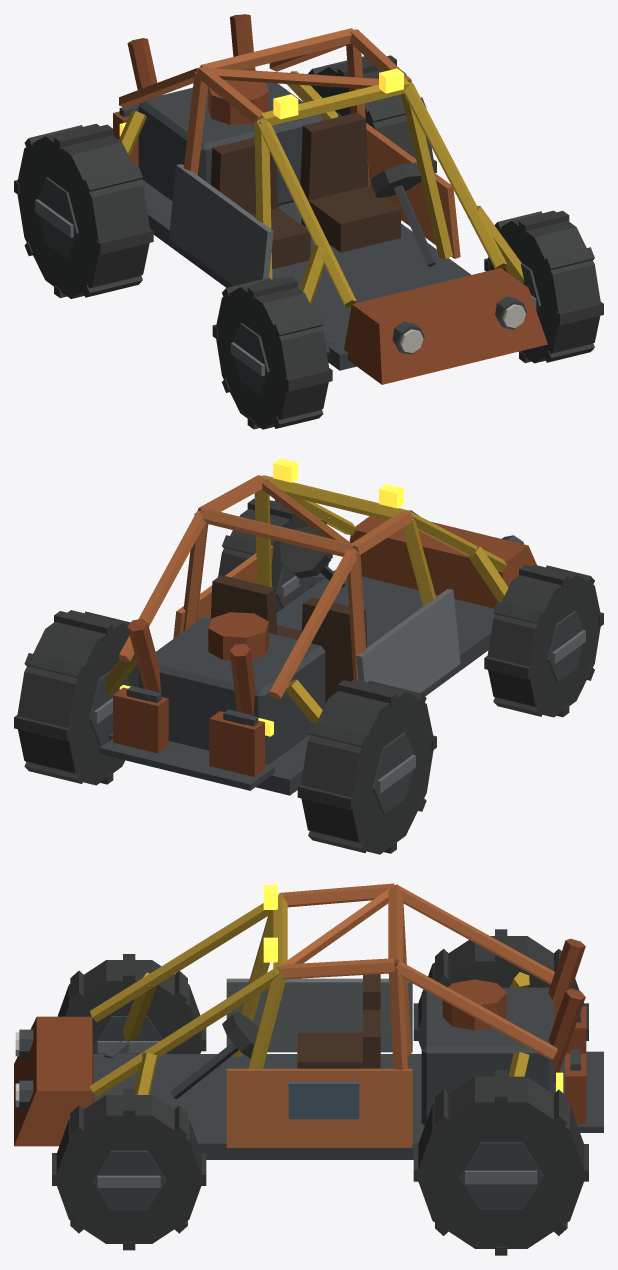
File: vehicle_buggy_l2.glb
The picture shows the model from 3 angles, top to bottom: view 1: azimuth 30°, elevation 25°; view 2: azimuth 150°, elevation 25°; view 3: azimuth 270°, elevation 25°; orthographic projection.
Parts seen in each view (by area): view 1: body, wheel_rr, wheel_fr, wheel_fl, wheel_rl; view 2: body, wheel_rr, wheel_rl, wheel_fr, wheel_fl; view 3: body, wheel_rl, wheel_fl, wheel_fr, wheel_rr.
Part boxes in pixels (x1=…): body: x1=113, y1=14, x2=547, y2=384; wheel_rr: x1=14, y1=123, x2=153, y2=298; wheel_fr: x1=212, y1=277, x2=332, y2=429; wheel_fl: x1=484, y1=210, x2=603, y2=363; wheel_rl: x1=303, y1=55, x2=436, y2=220; body: x1=99, y1=458, x2=536, y2=795; wheel_rr: x1=297, y1=679, x2=436, y2=854; wheel_rl: x1=14, y1=610, x2=138, y2=785; wheel_fr: x1=484, y1=564, x2=603, y2=717; wheel_fl: x1=218, y1=498, x2=332, y2=612; body: x1=14, y1=883, x2=603, y2=1159; wheel_rl: x1=413, y1=1070, x2=588, y2=1255; wheel_fl: x1=52, y1=1088, x2=206, y2=1250; wheel_fr: x1=57, y1=954, x2=206, y2=1053; wheel_rr: x1=413, y1=929, x2=588, y2=1049.
Bounding box in the file's own units: 2.29 × 1.6 × 3.33.
